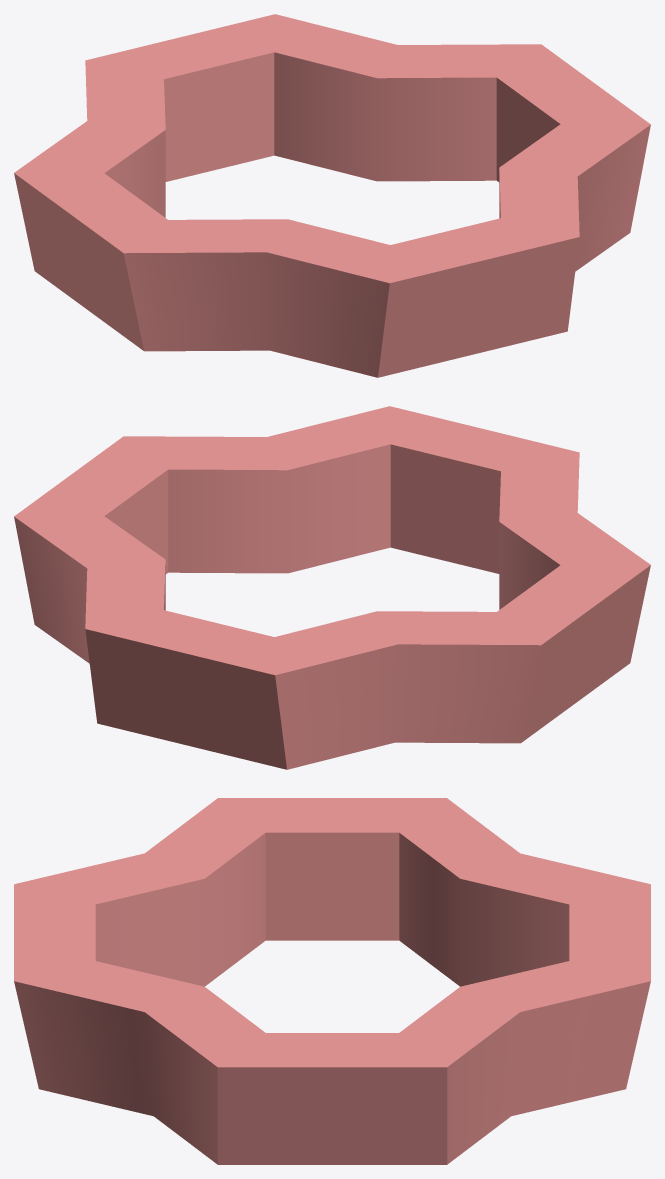
3 views of the same model, one above another, from view 1: azimuth 30°, elevation 25°; view 2: azimuth 150°, elevation 25°; view 3: azimuth 270°, elevation 25° (orthographic). The views are drawn at different scales.
Visible parts, largest first — view 1: paprikaSlice; view 2: paprikaSlice; view 3: paprikaSlice.
Part boxes in pixels (x1,y1,x2,y2): paprikaSlice: [14, 14, 650, 377]; paprikaSlice: [14, 406, 650, 769]; paprikaSlice: [14, 798, 650, 1164].
Bounding box in the file's own units: 0.1602 × 0.03 × 0.1602.
